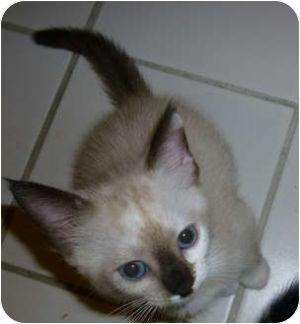siamese: (9, 99, 220, 323)
